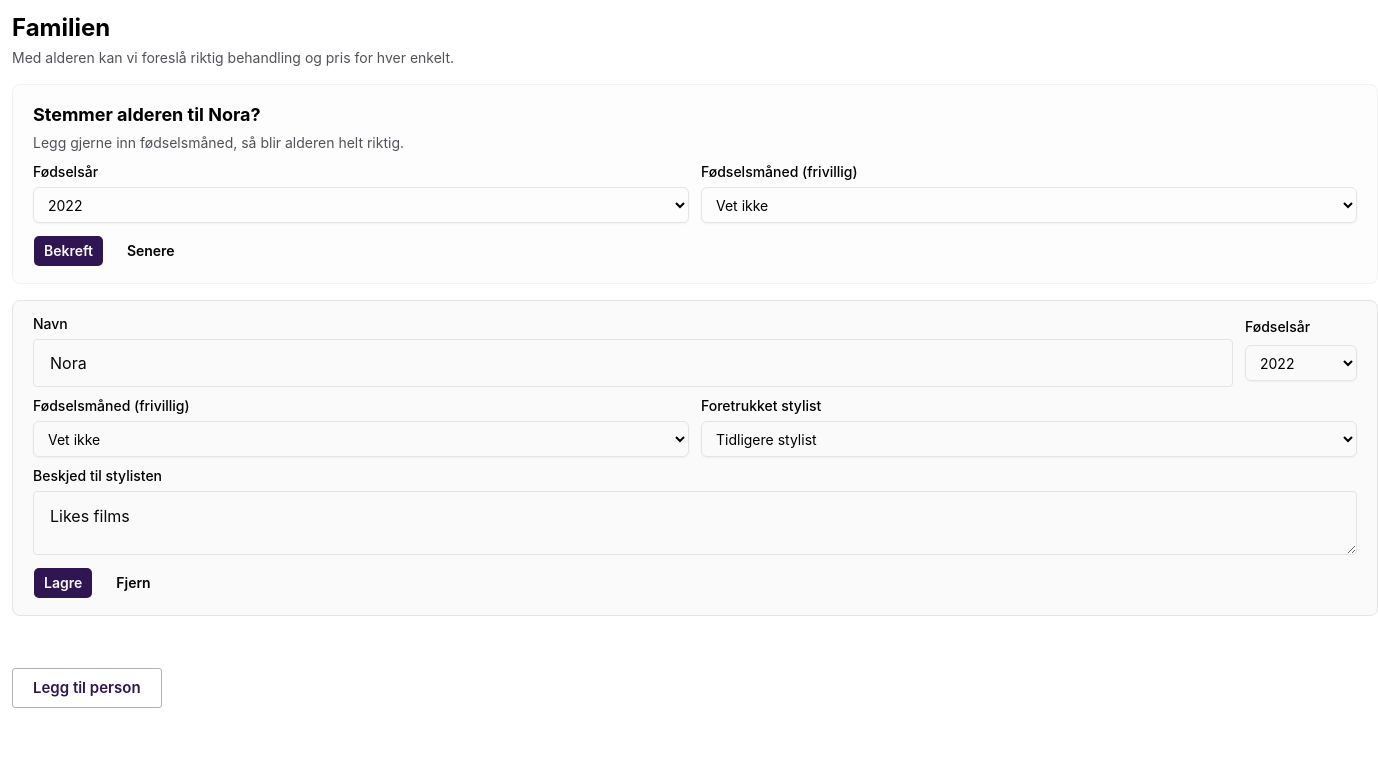
Test: Age prompt in the family editor › keeps unsaved typing in that child's editor row, taking only the fields it sent
The width and height of the screenshot is (1378, 780).
Replace the text in the field labelled "Navn" with "Nora Sofie" at {"x": 633, "y": 363}, box x1=33 y1=339 x2=1233 y2=387
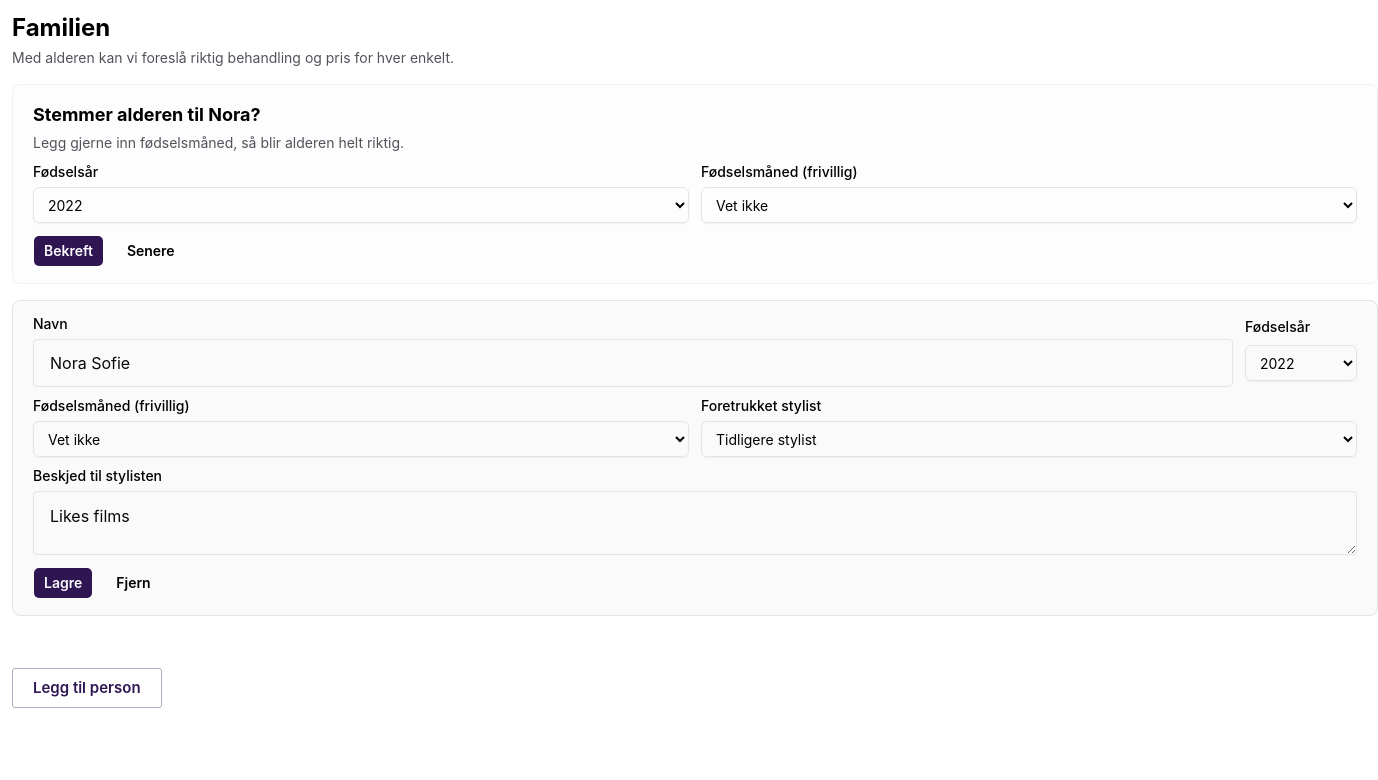
Replace the text in the text box labelled "Beskjed til stylisten" with "Likes films and music" at {"x": 695, "y": 523}, box x1=33 y1=491 x2=1357 y2=555
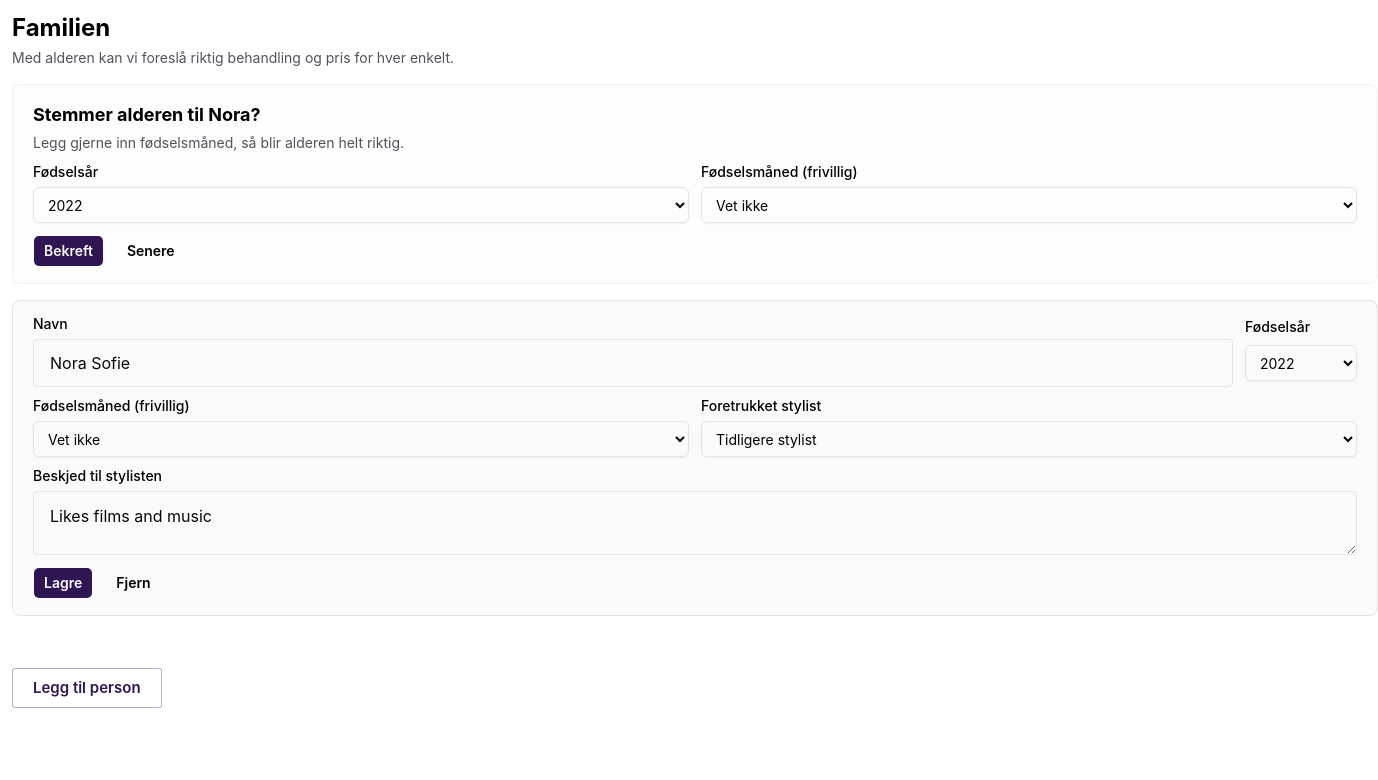
Select "2021" in the dropdown labelled "Fødselsår" below "Stemmer alderen til Nora?" at {"x": 361, "y": 205}, box x1=33 y1=187 x2=689 y2=223
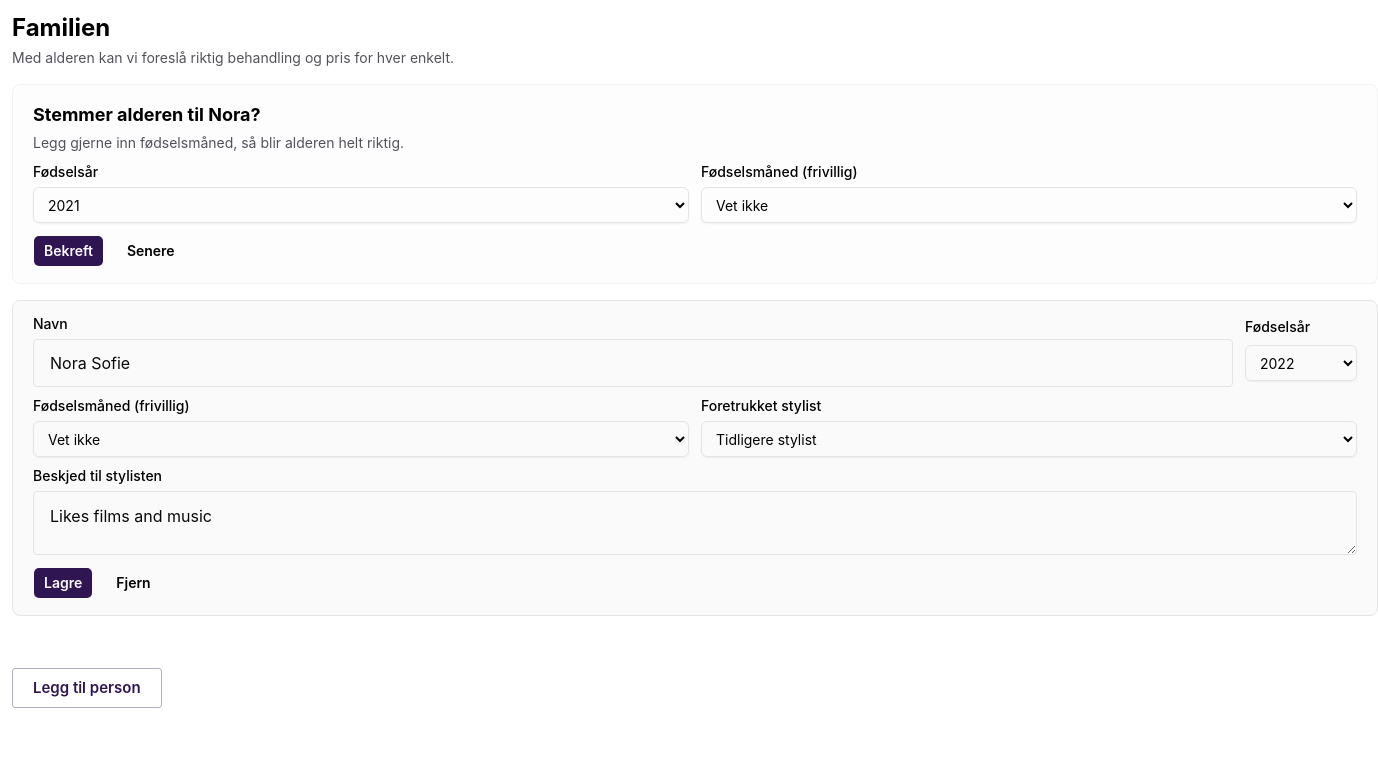
Select "september" in the 1st dropdown labelled "Fødselsmåned (frivillig)" at {"x": 1029, "y": 205}, box x1=701 y1=187 x2=1357 y2=223
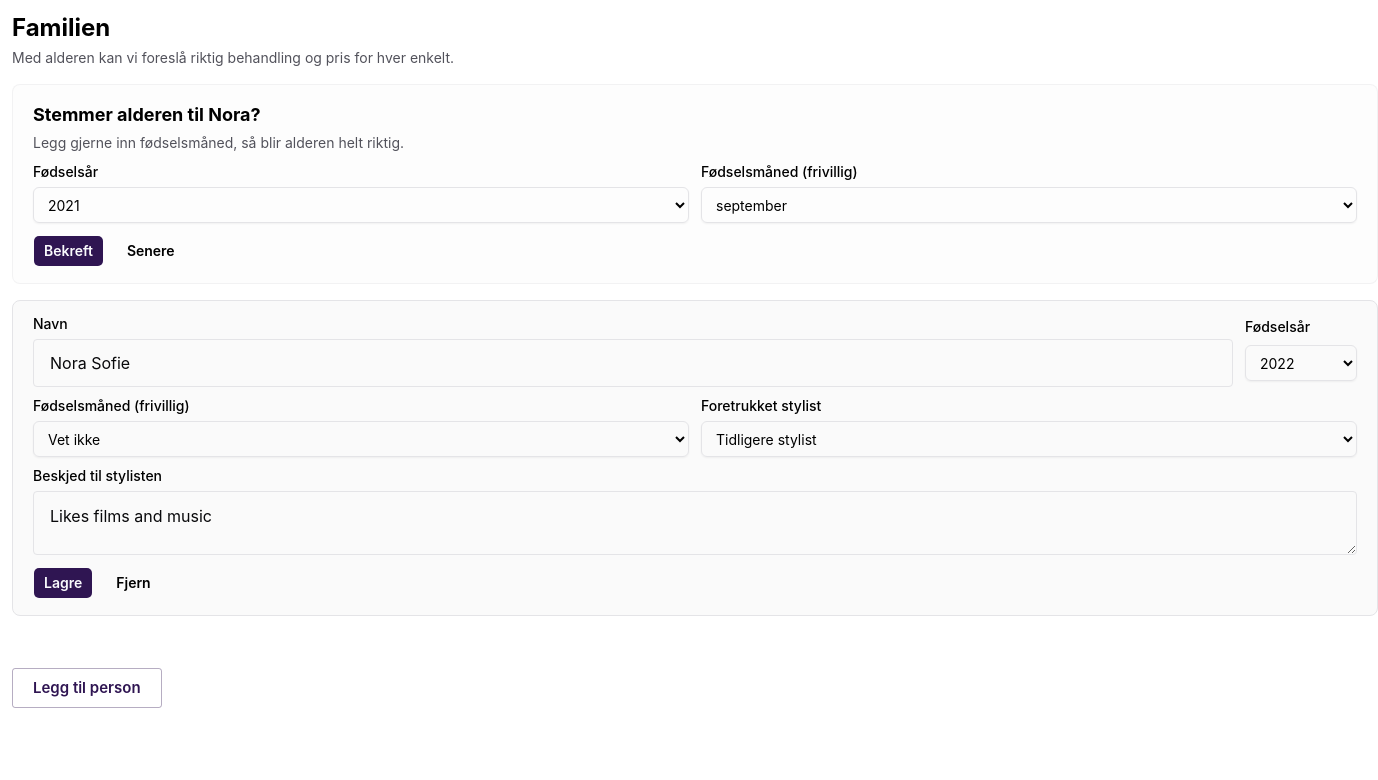
Click the button "Bekreft" at {"x": 68, "y": 251}, box x1=33 y1=235 x2=104 y2=267
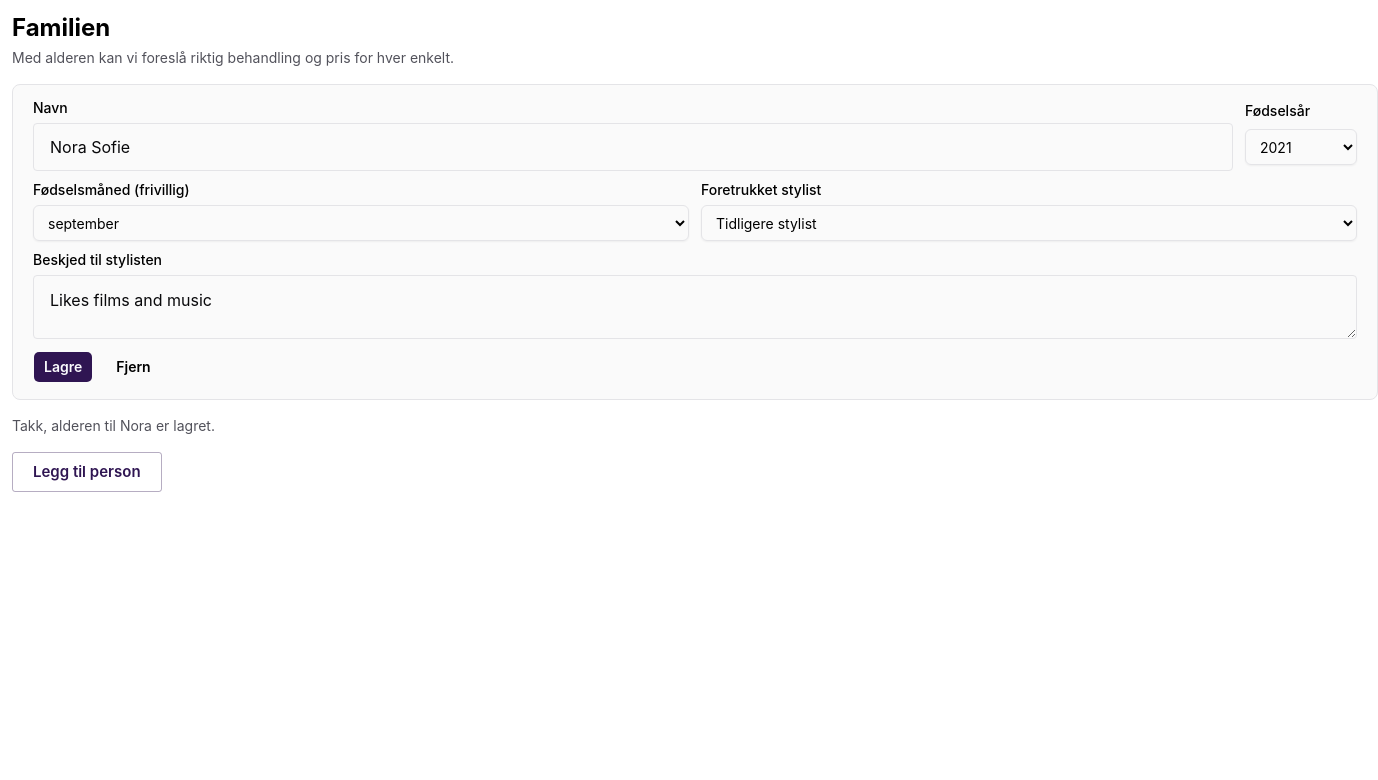
expect the text "Takk, alderen til Nora er lagret." is shown: met, box x1=12 y1=417 x2=215 y2=434
expect the dropdown labelled "Fødselsår" shows "2021": met, box x1=1245 y1=129 x2=1357 y2=165
expect the dropdown labelled "Fødselsmåned (frivillig)" shows "september": met, box x1=33 y1=205 x2=689 y2=241
